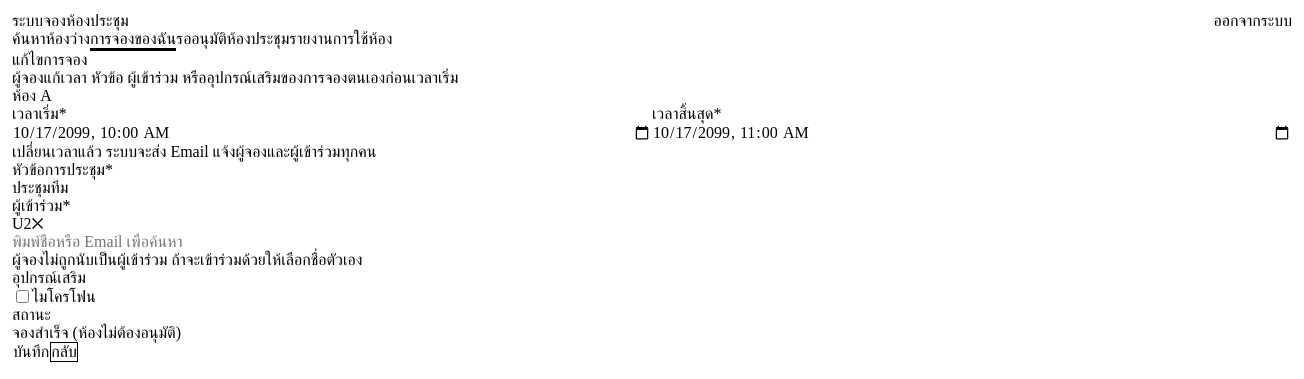
Scenario: FE-mrr-004 edit booking page (UI-mrr-008) › AC-mrr-008 saves a new title and shows บันทึกการแก้ไขสำเร็จ on my bookings
Replace the text in the field with test id "ui-mrr-008-ent-007-title" with "ประชุมวางแผน" at (652, 188), box x1=12 y1=179 x2=1292 y2=197
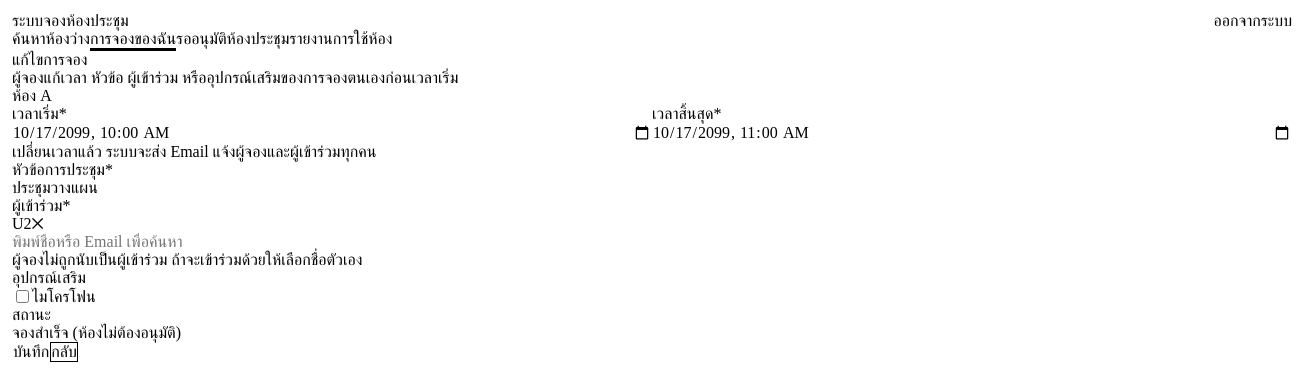
Click the button with test id "ui-mrr-008-save".
click(31, 352)  # box x1=12 y1=342 x2=50 y2=362
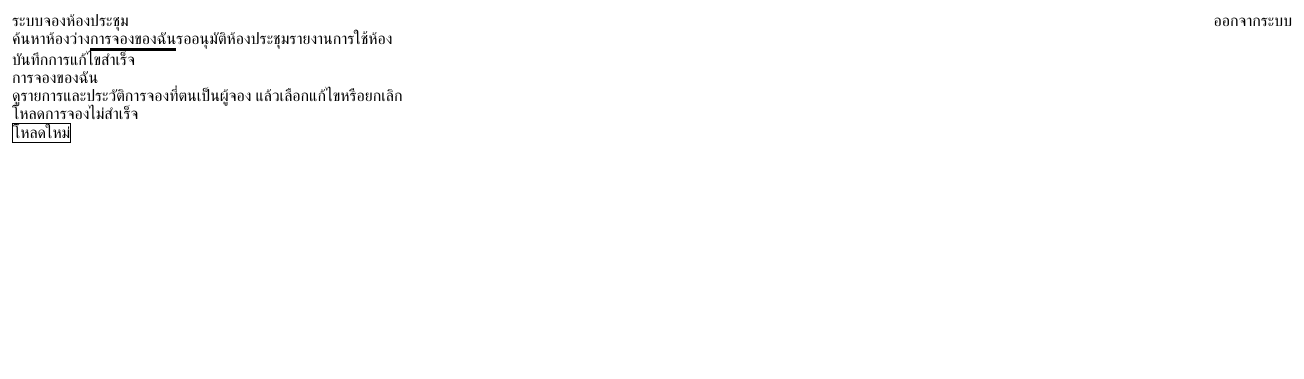
expect the heading "การจองของฉัน" is shown: met, box x1=12 y1=69 x2=98 y2=86
expect the message "บันทึกการแก้ไขสำเร็จ" is shown: met, box x1=12 y1=51 x2=135 y2=68
